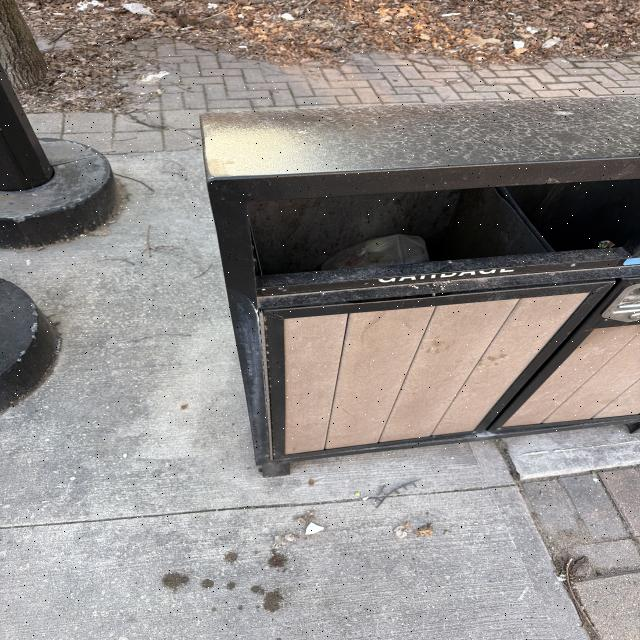Dustbin: (200, 98, 640, 480)
